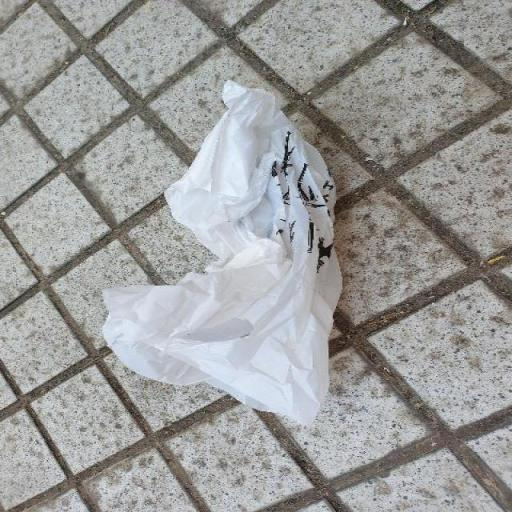plastic-bag: (100, 78, 343, 428)
